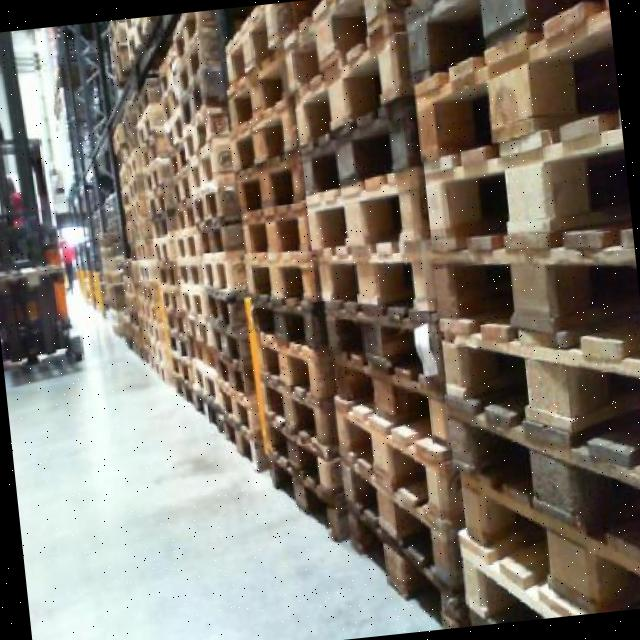pallet: (418, 107, 636, 292), (427, 204, 640, 389), (398, 0, 622, 159), (274, 5, 418, 144), (290, 84, 426, 204), (292, 152, 436, 262), (304, 224, 436, 316), (323, 347, 451, 438), (322, 302, 446, 378), (218, 33, 298, 132), (242, 276, 334, 356), (231, 192, 321, 268), (248, 325, 342, 397), (236, 232, 326, 303), (226, 152, 316, 221), (223, 109, 304, 173), (184, 137, 236, 195), (183, 178, 239, 225), (196, 244, 246, 295), (199, 280, 249, 329), (192, 213, 242, 260)
